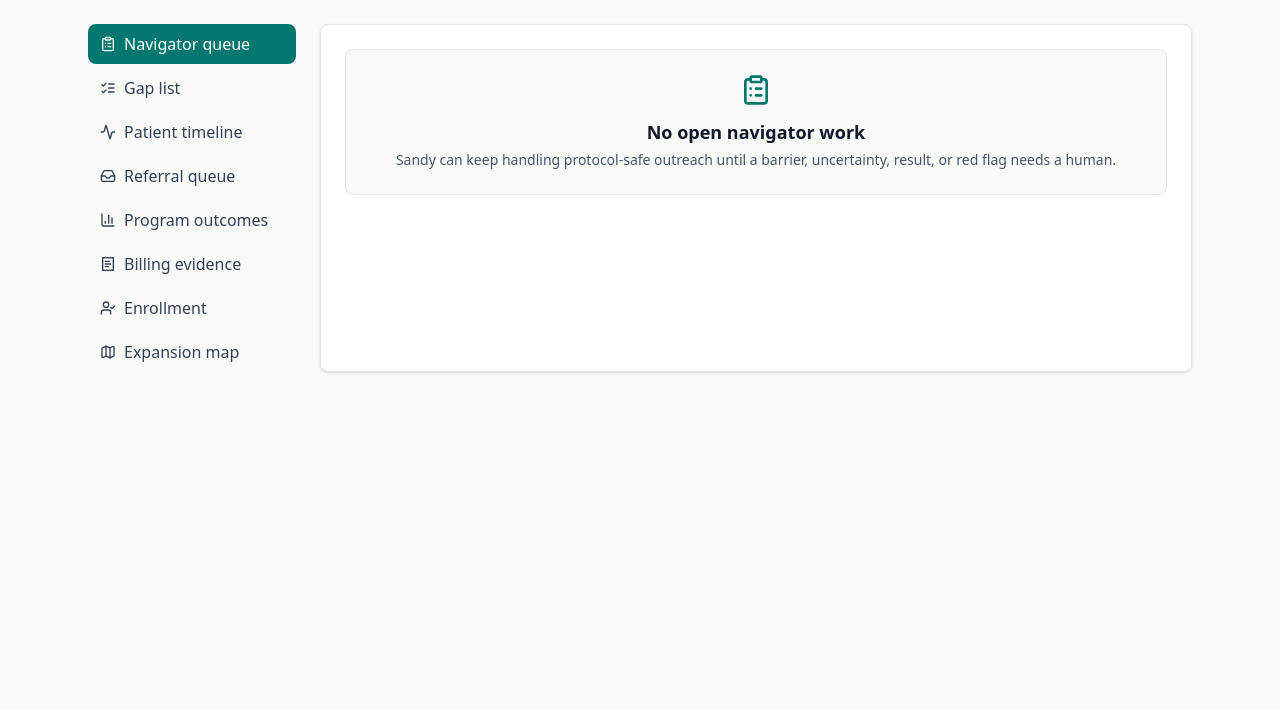
Test: HubShell › opens the navigator enrollment view from hub navigation
The width and height of the screenshot is (1280, 710).
Click the button "Enrollment" at x=192, y=308, box [88,288,296,328]
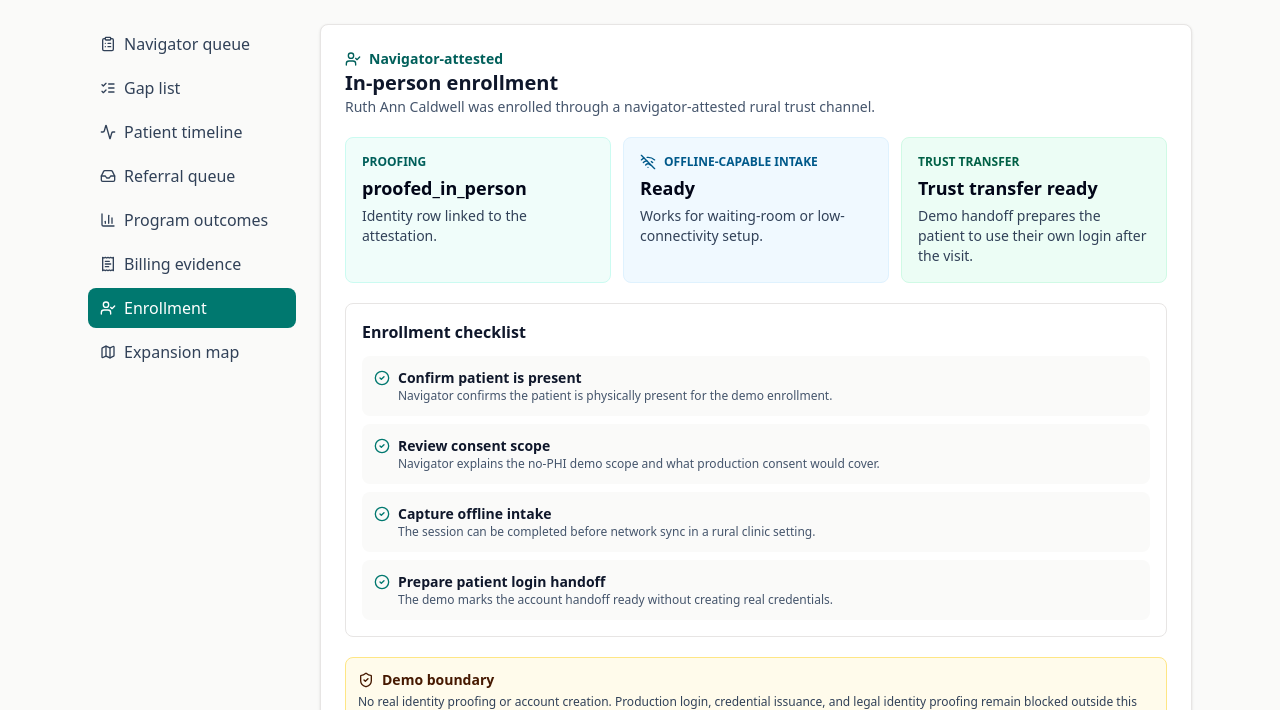
Result: the heading "In-person enrollment" is shown at [345,69,558,96]
Result: the text "Trust transfer ready" is shown at [918,176,1098,200]
